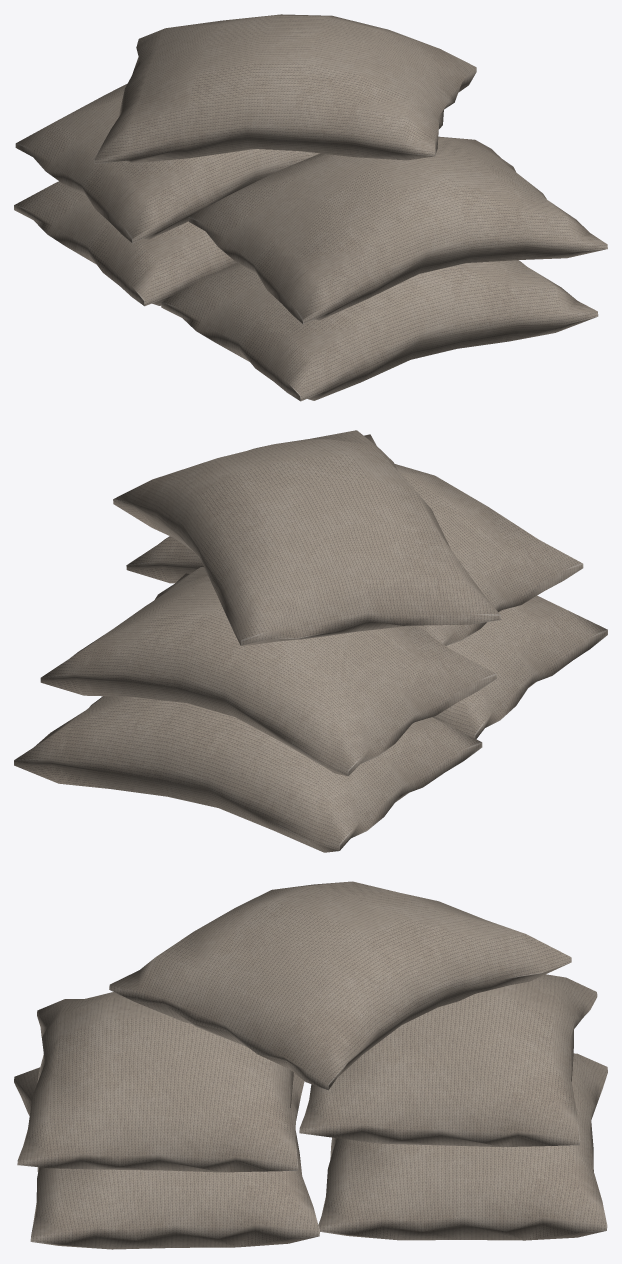
3 views of the same model, one above another, from view 1: azimuth 30°, elevation 25°; view 2: azimuth 150°, elevation 25°; view 3: azimuth 270°, elevation 25° (orthographic). The views are drawn at different scales.
Visible parts, largest first — view 1: submesh_0; view 2: submesh_0; view 3: submesh_0.
Part boxes in pixels (x1,y1,x2,y2): submesh_0: (14,14,607,401); submesh_0: (14,430,607,852); submesh_0: (14,881,607,1249).
Bounding box in the file's own units: 1.25 × 0.818 × 1.56.
1 material, 1 textured.
